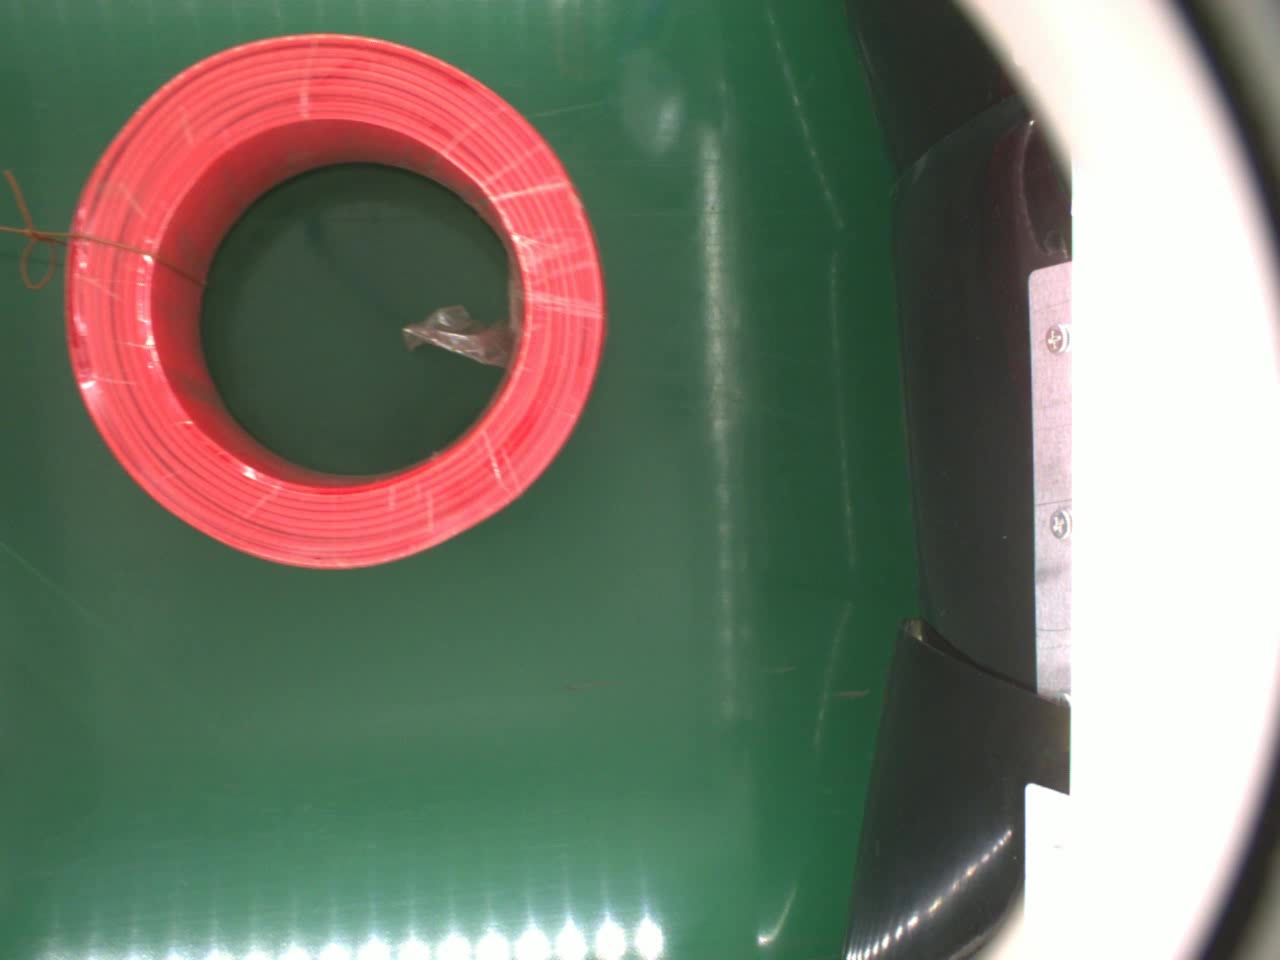red: (61, 29, 604, 574)
